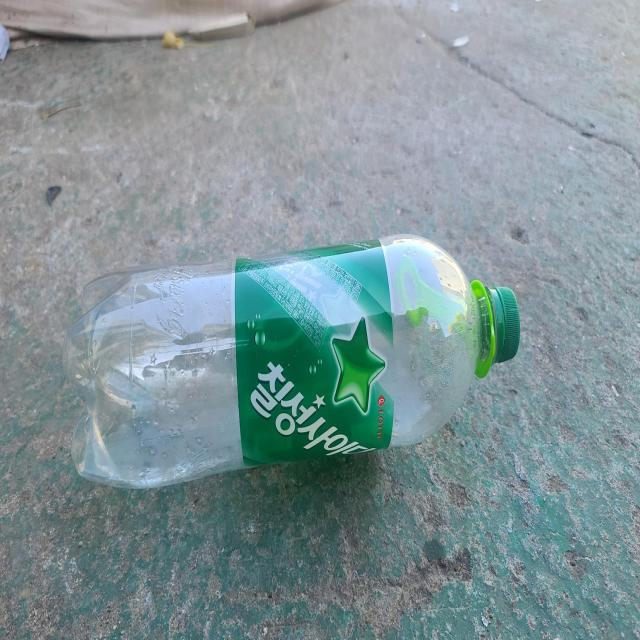plastic: (63, 234, 521, 487)
